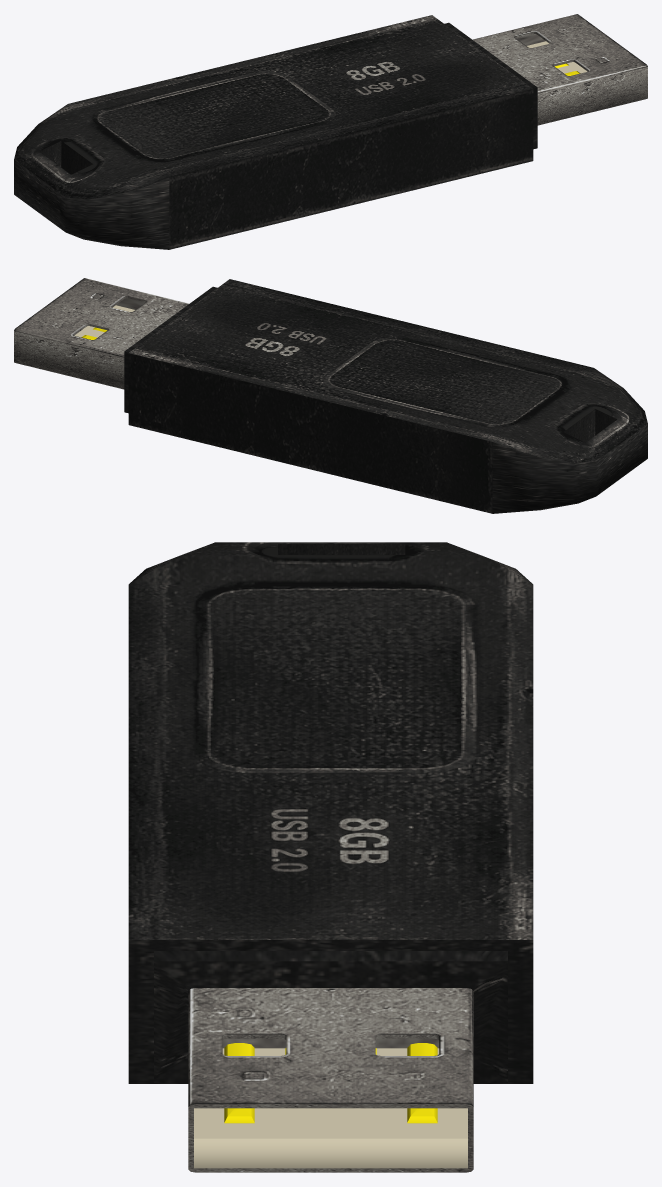
File: usb_stick.glb
3 views of the same model, one above another, from view 1: azimuth 30°, elevation 25°; view 2: azimuth 150°, elevation 25°; view 3: azimuth 270°, elevation 25° (orthographic). The views are drawn at different scales.
Parts seen in each view (by area): view 1: Cube_0; view 2: Cube_0; view 3: Cube_0.
Boxes of the visible parts, x1,y1,x2,y2 form: Cube_0: (14,14,647,249); Cube_0: (14,278,647,513); Cube_0: (128,542,533,1172).
Bounding box in the file's own units: 2.97 × 0.3568 × 0.91.
4 materials, 2 textured.
